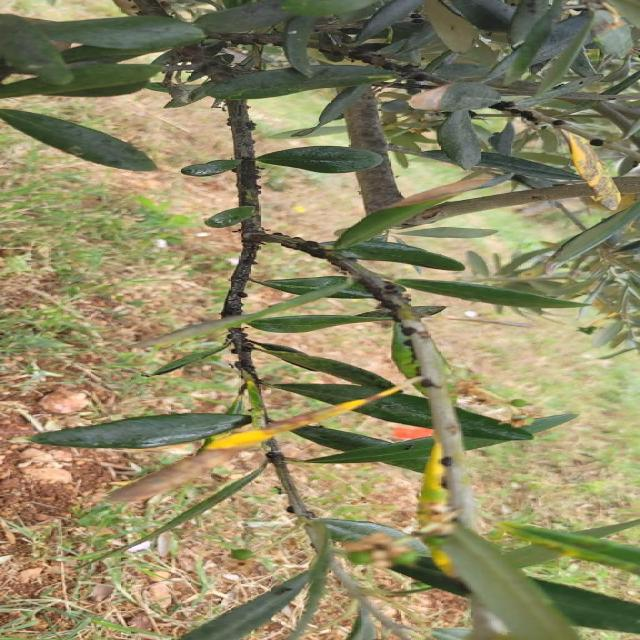Black Scale: (222, 100, 261, 318), (358, 275, 421, 336), (348, 48, 444, 88), (266, 232, 337, 264), (228, 328, 259, 388), (490, 101, 544, 125), (270, 441, 284, 475), (590, 138, 603, 146), (549, 120, 564, 126)
Peacock Eye: (562, 130, 620, 210)
